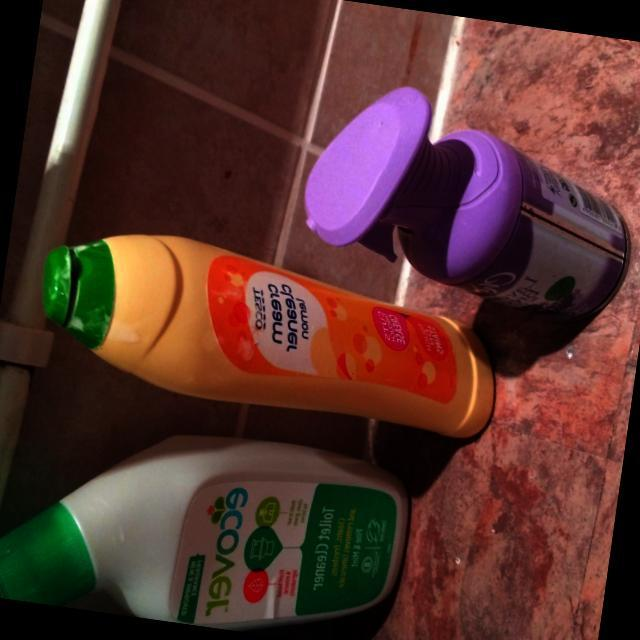HDPE Plastic: (36, 226, 498, 452), (0, 432, 421, 636), (300, 83, 634, 331)
